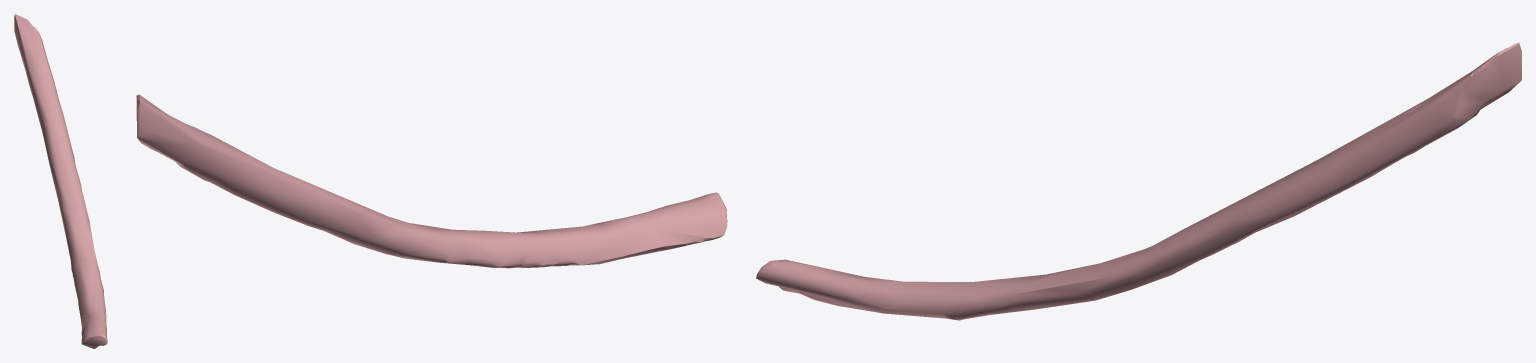
The model's file is fma46442_fj2552.glb.
3 renders of one model, left to right at view 1: azimuth 30°, elevation 25°; view 2: azimuth 150°, elevation 25°; view 3: azimuth 270°, elevation 25°, orthographic. The views are drawn at different scales.
Visible parts, largest first — view 1: FMA46442_FJ2552; view 2: FMA46442_FJ2552; view 3: FMA46442_FJ2552.
Boxes of the visible parts, bbox=[...] form: FMA46442_FJ2552: bbox=[14, 14, 107, 348]; FMA46442_FJ2552: bbox=[136, 94, 727, 268]; FMA46442_FJ2552: bbox=[756, 42, 1521, 320].
Size of the model in its own units: 0.0253 by 0.0336 by 0.066.
